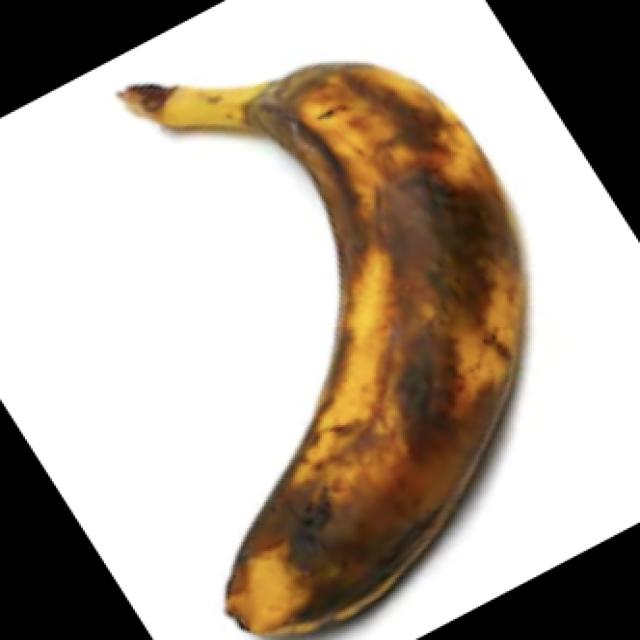Rotten: (107, 26, 537, 640)
